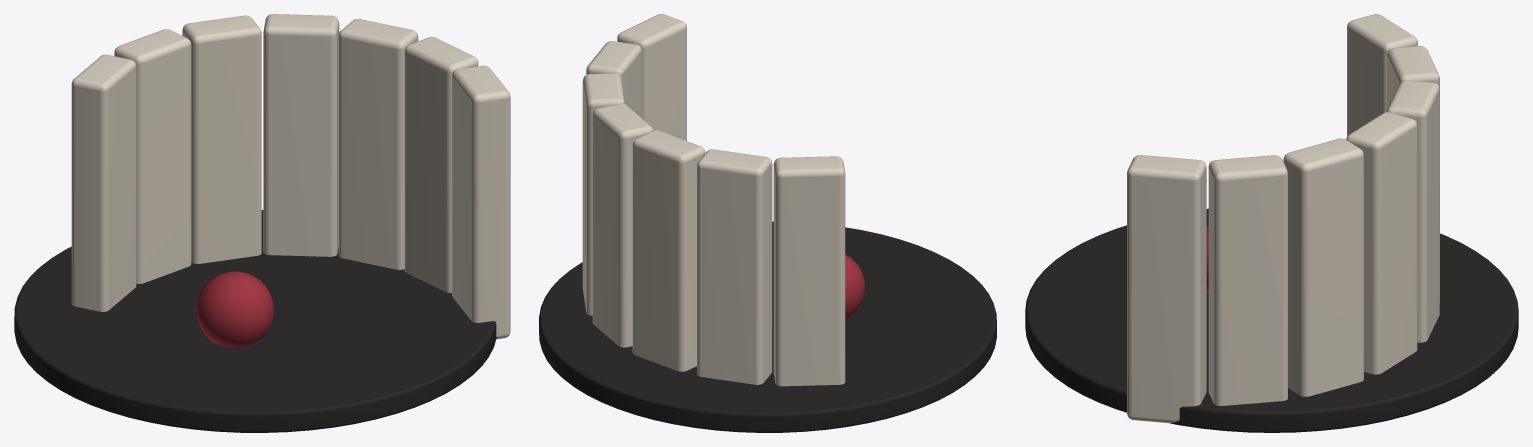
Rendered from VSV-023.glb.
The picture shows the model from 3 angles, left to right: view 1: azimuth 30°, elevation 25°; view 2: azimuth 150°, elevation 25°; view 3: azimuth 270°, elevation 25°; orthographic projection. The views are drawn at different scales.
Visible parts, largest first — view 1: VSV-023_boundary-wall__court, VSV-023_boundary-wall__wall segment.003, VSV-023_boundary-wall__wall segment.004, VSV-023_boundary-wall__wall segment.002, VSV-023_boundary-wall__wall segment.006, VSV-023_boundary-wall__wall segment, VSV-023_boundary-wall__wall segment.005, VSV-023_boundary-wall__wall segment.001, VSV-023_boundary-wall__focus; view 2: VSV-023_boundary-wall__court, VSV-023_boundary-wall__wall segment.005, VSV-023_boundary-wall__wall segment.006, VSV-023_boundary-wall__wall segment.004, VSV-023_boundary-wall__wall segment.003, VSV-023_boundary-wall__wall segment, VSV-023_boundary-wall__wall segment.002, VSV-023_boundary-wall__wall segment.001, VSV-023_boundary-wall__focus; view 3: VSV-023_boundary-wall__court, VSV-023_boundary-wall__wall segment, VSV-023_boundary-wall__wall segment.001, VSV-023_boundary-wall__wall segment.002, VSV-023_boundary-wall__wall segment.003, VSV-023_boundary-wall__wall segment.004, VSV-023_boundary-wall__wall segment.006, VSV-023_boundary-wall__wall segment.005.
Part boxes in pixels (x1,y1,x2,y2): VSV-023_boundary-wall__court: (14, 210, 496, 432); VSV-023_boundary-wall__wall segment.003: (263, 14, 339, 256); VSV-023_boundary-wall__wall segment.004: (182, 15, 261, 263); VSV-023_boundary-wall__wall segment.002: (338, 18, 418, 269); VSV-023_boundary-wall__wall segment.006: (71, 54, 136, 311); VSV-023_boundary-wall__wall segment: (452, 65, 510, 339); VSV-023_boundary-wall__wall segment.005: (114, 29, 191, 283); VSV-023_boundary-wall__wall segment.001: (404, 37, 478, 292); VSV-023_boundary-wall__focus: (196, 271, 274, 347); VSV-023_boundary-wall__court: (539, 221, 996, 432); VSV-023_boundary-wall__wall segment.005: (697, 149, 772, 384); VSV-023_boundary-wall__wall segment.006: (773, 156, 845, 386); VSV-023_boundary-wall__wall segment.004: (632, 130, 705, 371); VSV-023_boundary-wall__wall segment.003: (592, 103, 653, 347); VSV-023_boundary-wall__wall segment: (617, 14, 686, 140); VSV-023_boundary-wall__wall segment.002: (582, 73, 624, 315); VSV-023_boundary-wall__wall segment.001: (586, 41, 641, 117); VSV-023_boundary-wall__focus: (845, 254, 864, 318); VSV-023_boundary-wall__court: (1025, 208, 1518, 432); VSV-023_boundary-wall__wall segment: (1127, 155, 1206, 423); VSV-023_boundary-wall__wall segment.001: (1208, 155, 1287, 405); VSV-023_boundary-wall__wall segment.002: (1283, 138, 1363, 396); VSV-023_boundary-wall__wall segment.003: (1346, 112, 1417, 374); VSV-023_boundary-wall__wall segment.004: (1386, 80, 1439, 342); VSV-023_boundary-wall__wall segment.006: (1347, 14, 1417, 136); VSV-023_boundary-wall__wall segment.005: (1387, 46, 1439, 302).
Bounding box in the file's own units: 2.48 × 1.4 × 2.48.
